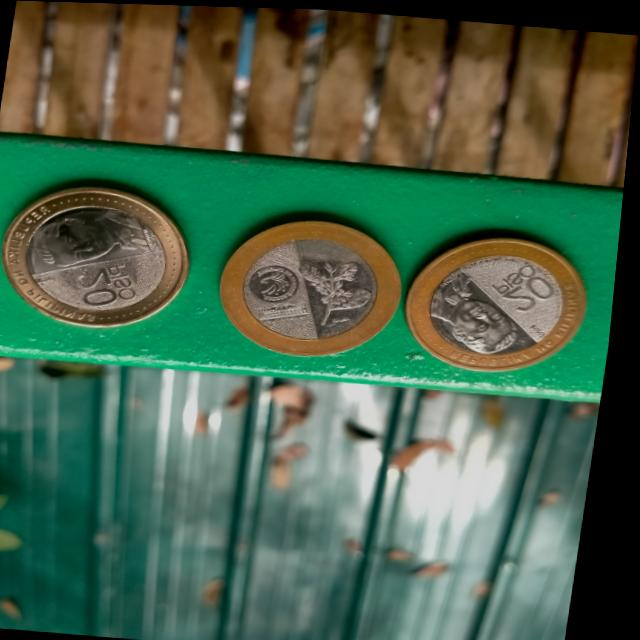20_New_Back: (292, 239, 388, 335)
20_New_Front: (486, 252, 573, 314), (70, 257, 146, 316)
